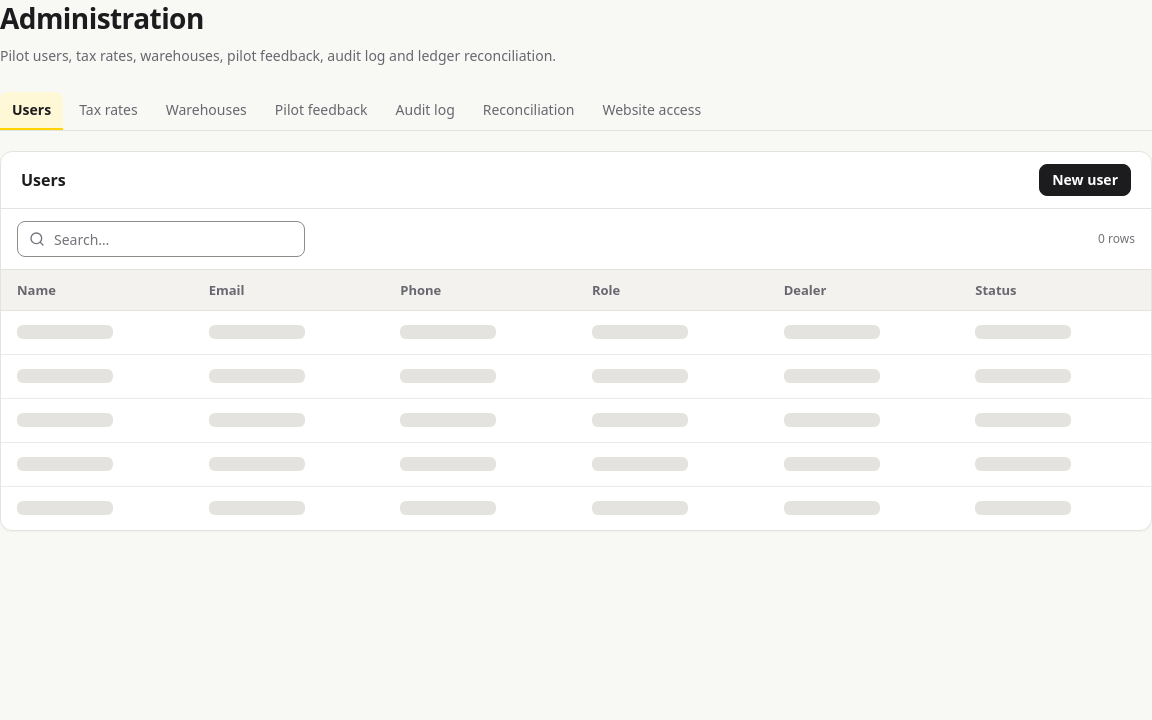
Test: Admin → Website access › lists keys by prefix only and shows a new key once
Later steps or results of the test are not shown.
Click the tab "Website access": (652, 112) left=590, top=92, right=713, bottom=131
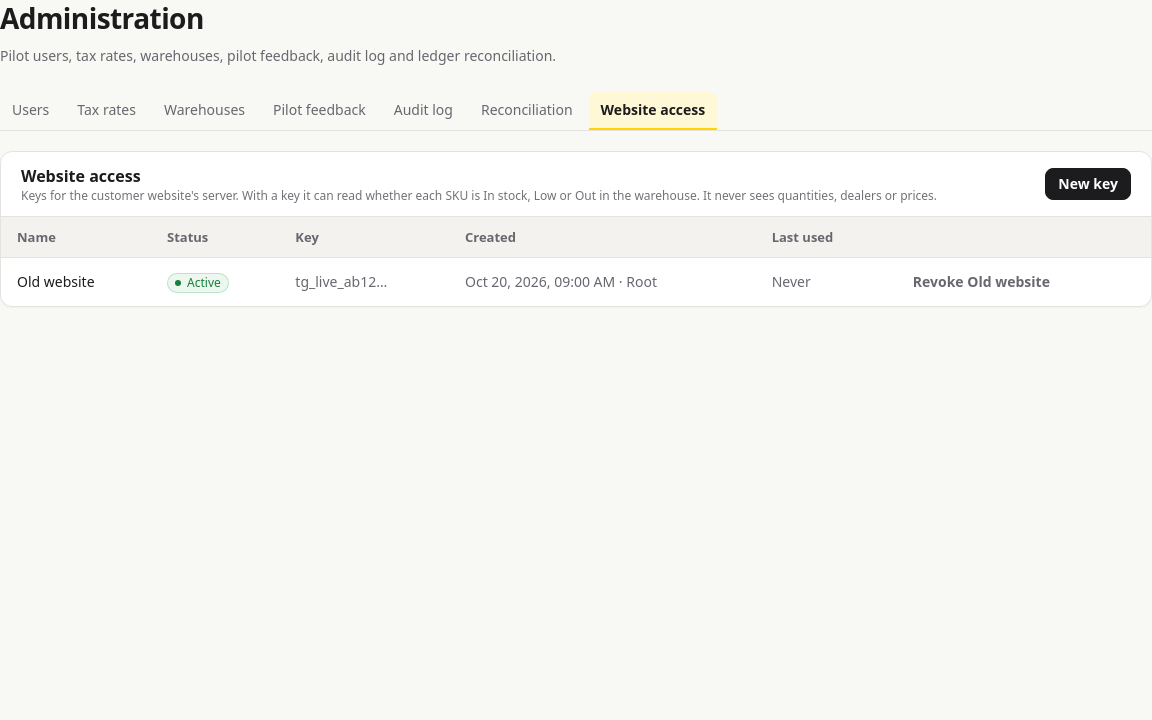
Now the text "Old website" is shown, box left=17, top=272, right=95, bottom=290
Now the text "tg_live_ab12…" is shown, box left=295, top=272, right=387, bottom=290
Now the text "Never" is shown, box left=772, top=272, right=811, bottom=290
Click the button "New key": (1088, 184) left=1045, top=168, right=1131, bottom=200
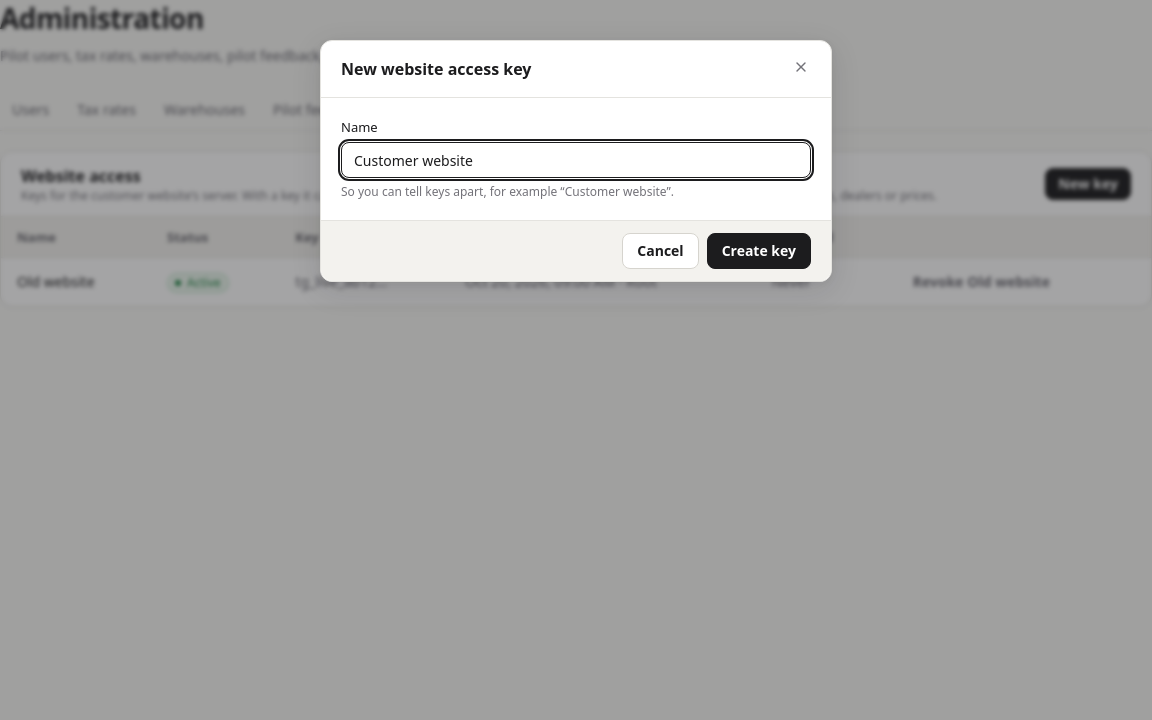
Click the button "Create key": (759, 251) left=707, top=233, right=811, bottom=269
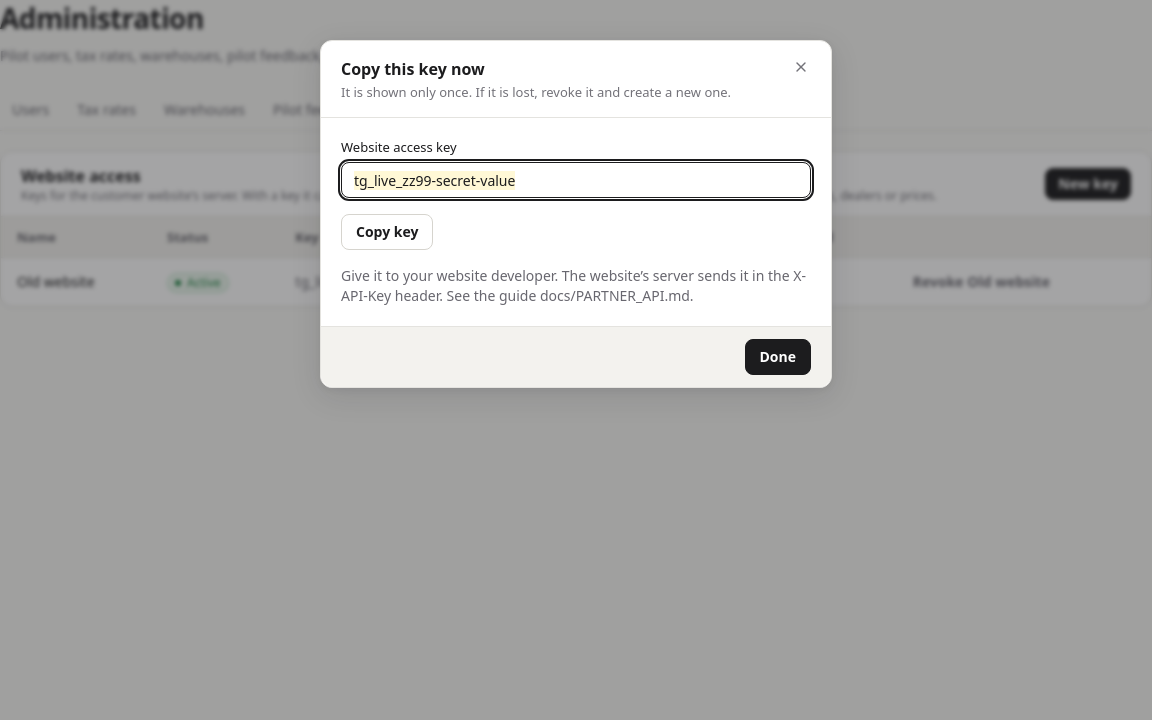
Now the field labelled "Website access key" holds "tg_live_zz99-secret-value", box left=341, top=162, right=811, bottom=198
